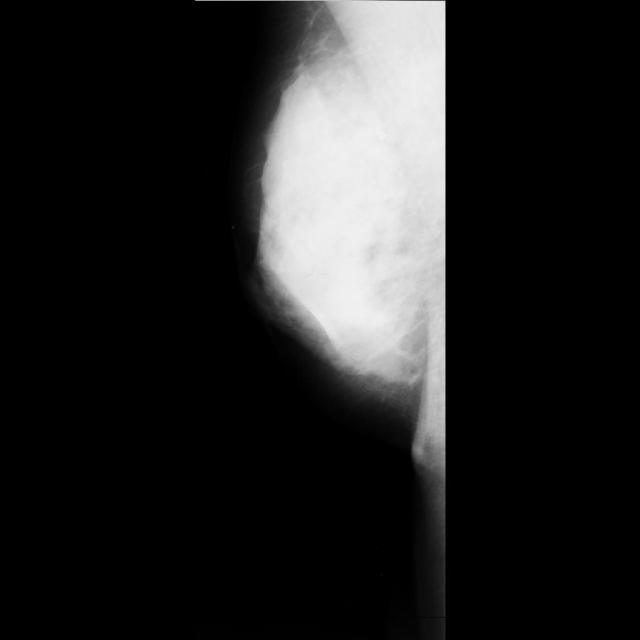tumour: (339, 302, 407, 359)
